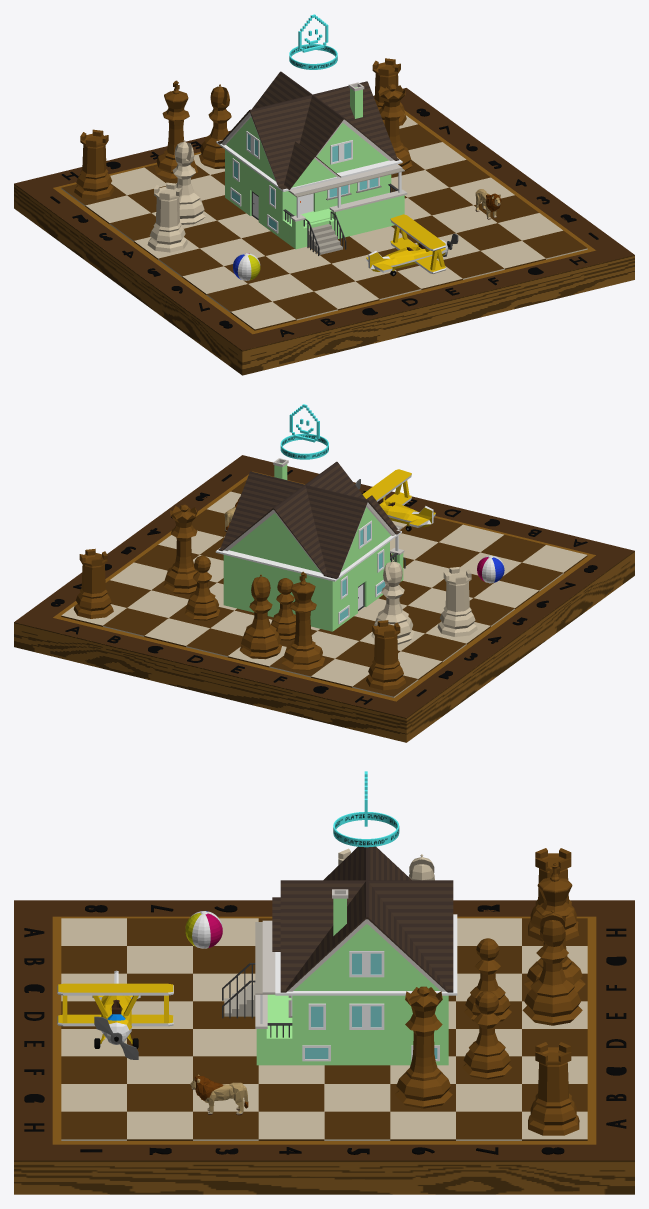
The picture shows the model from 3 angles, top to bottom: view 1: azimuth 30°, elevation 25°; view 2: azimuth 150°, elevation 25°; view 3: azimuth 270°, elevation 25°; orthographic projection. The views are drawn at different scales.
Visible parts, largest first — view 1: Cube.002, Cube.274, VEHICLES_AIRPLANE, TYPE_PREMIUM, OBJRANDOM_BEACHBALL, ANIMAL_LEON; view 2: Cube.002, Cube.274, VEHICLES_AIRPLANE, TYPE_PREMIUM, OBJRANDOM_BEACHBALL; view 3: Cube.002, Cube.274, VEHICLES_AIRPLANE, TYPE_PREMIUM, ANIMAL_LEON, OBJRANDOM_BEACHBALL.
Boxes of the visible parts, left/top/right/bottom form: Cube.002: left=14, top=58, right=634, bottom=375; Cube.274: left=216, top=71, right=407, bottom=255; VEHICLES_AIRPLANE: left=366, top=214, right=458, bottom=276; TYPE_PREMIUM: left=289, top=14, right=337, bottom=69; OBJRANDOM_BEACHBALL: left=233, top=253, right=260, bottom=280; ANIMAL_LEON: left=475, top=189, right=501, bottom=219; Cube.002: left=14, top=455, right=634, bottom=742; Cube.274: left=215, top=458, right=405, bottom=631; VEHICLES_AIRPLANE: left=355, top=469, right=435, bottom=531; TYPE_PREMIUM: left=280, top=404, right=328, bottom=459; OBJRANDOM_BEACHBALL: left=477, top=555, right=504, bottom=583; Cube.002: left=14, top=848, right=634, bottom=1194; Cube.274: left=222, top=846, right=457, bottom=1065; VEHICLES_AIRPLANE: left=57, top=970, right=173, bottom=1059; TYPE_PREMIUM: left=333, top=771, right=399, bottom=847; ANIMAL_LEON: left=190, top=1074, right=248, bottom=1115; OBJRANDOM_BEACHBALL: left=185, top=911, right=222, bottom=948.
Bounding box in the file's own units: 3981 × 2330 × 4012.
43 materials, 3 textured.
